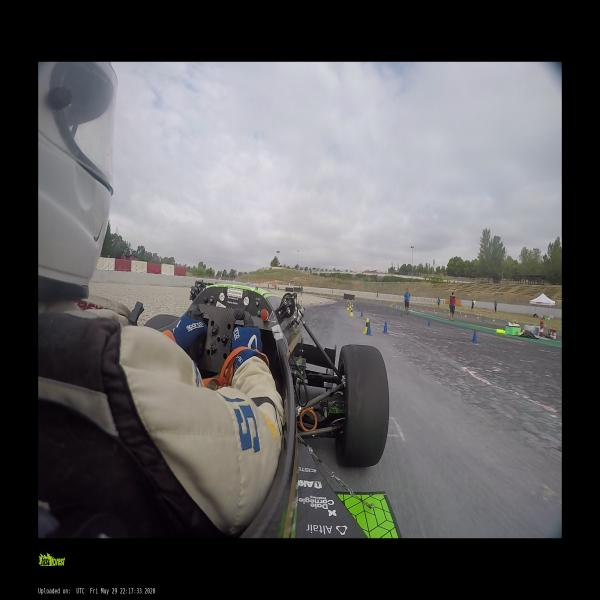blue_cone: (366, 322, 373, 336), (382, 321, 388, 334), (471, 330, 477, 343), (427, 319, 430, 326), (360, 310, 363, 317)
orange_cone: (310, 300, 313, 305), (320, 300, 322, 304)
yellow_cone: (366, 318, 370, 332), (350, 308, 353, 316), (347, 304, 349, 310), (349, 303, 351, 308)
